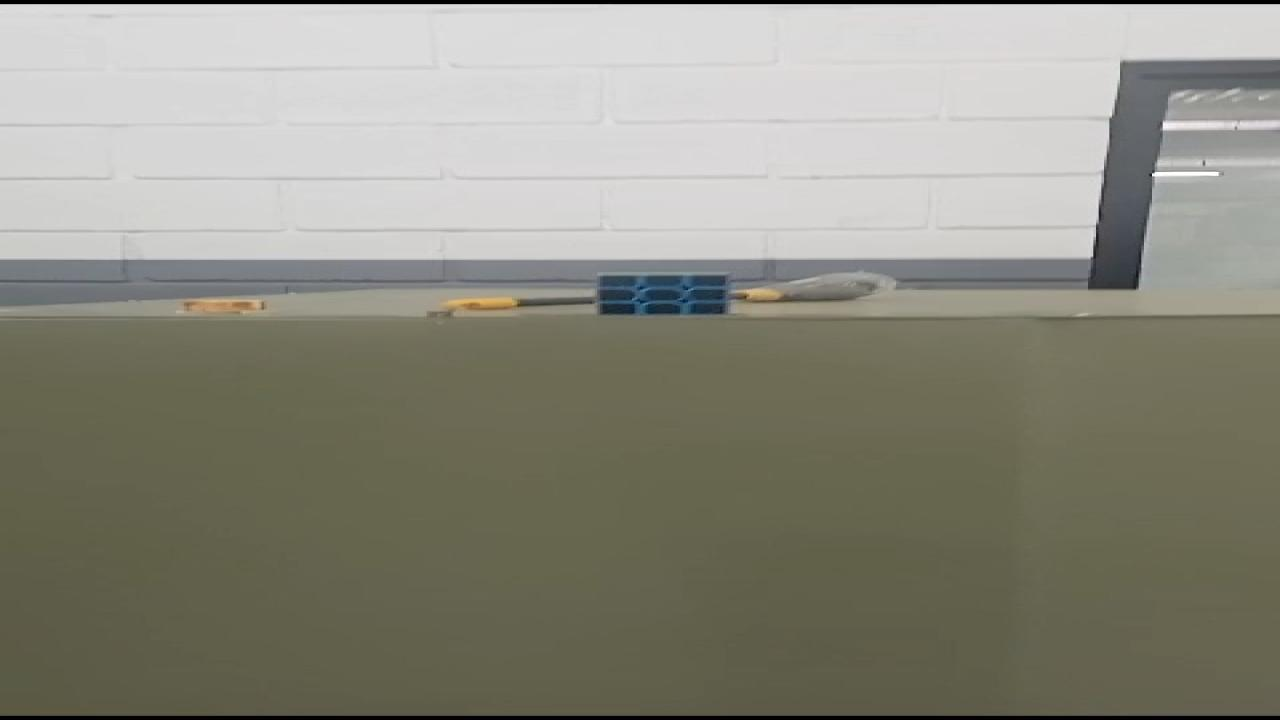Cube: (592, 271, 733, 316)
